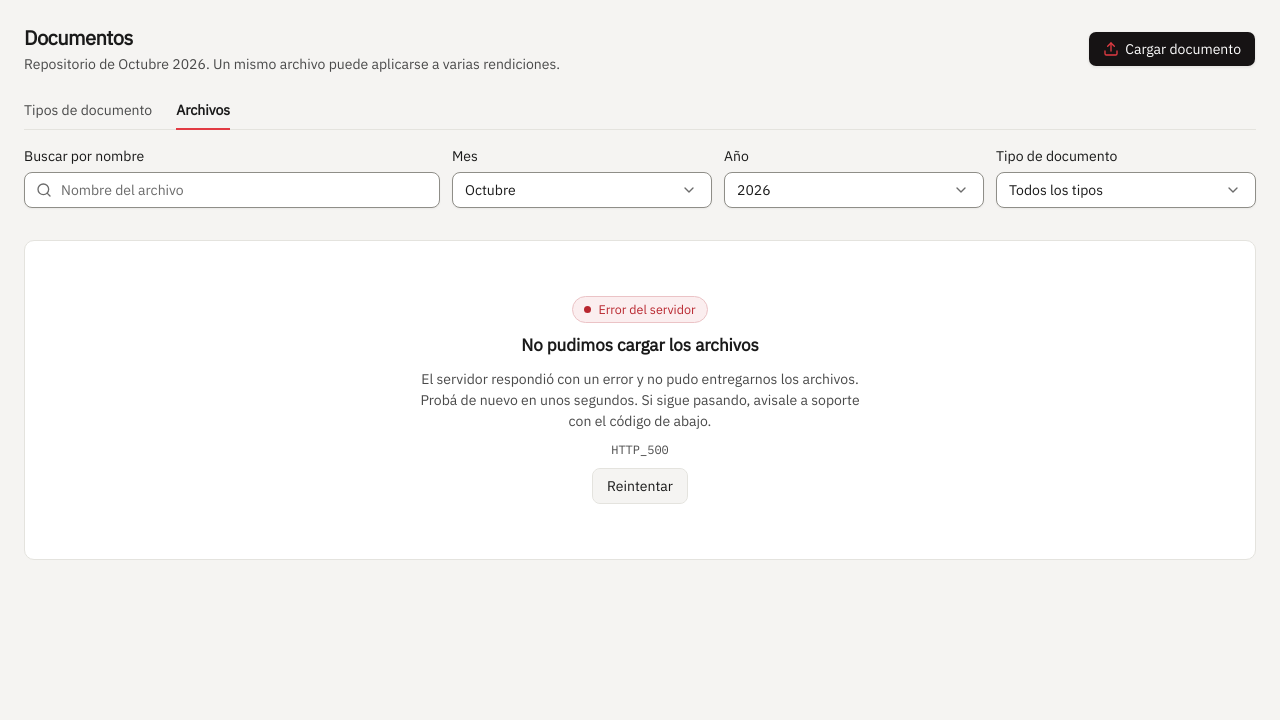
ArchivosPage: repositorio › un error de la API no se confunde con un repositorio vacío y se puede reintentar
Expected: the heading "No pudimos cargar los archivos" is shown, x1=521 y1=333 x2=759 y2=359
Click the button "Reintentar": [640, 486] box x1=592 y1=468 x2=688 y2=504
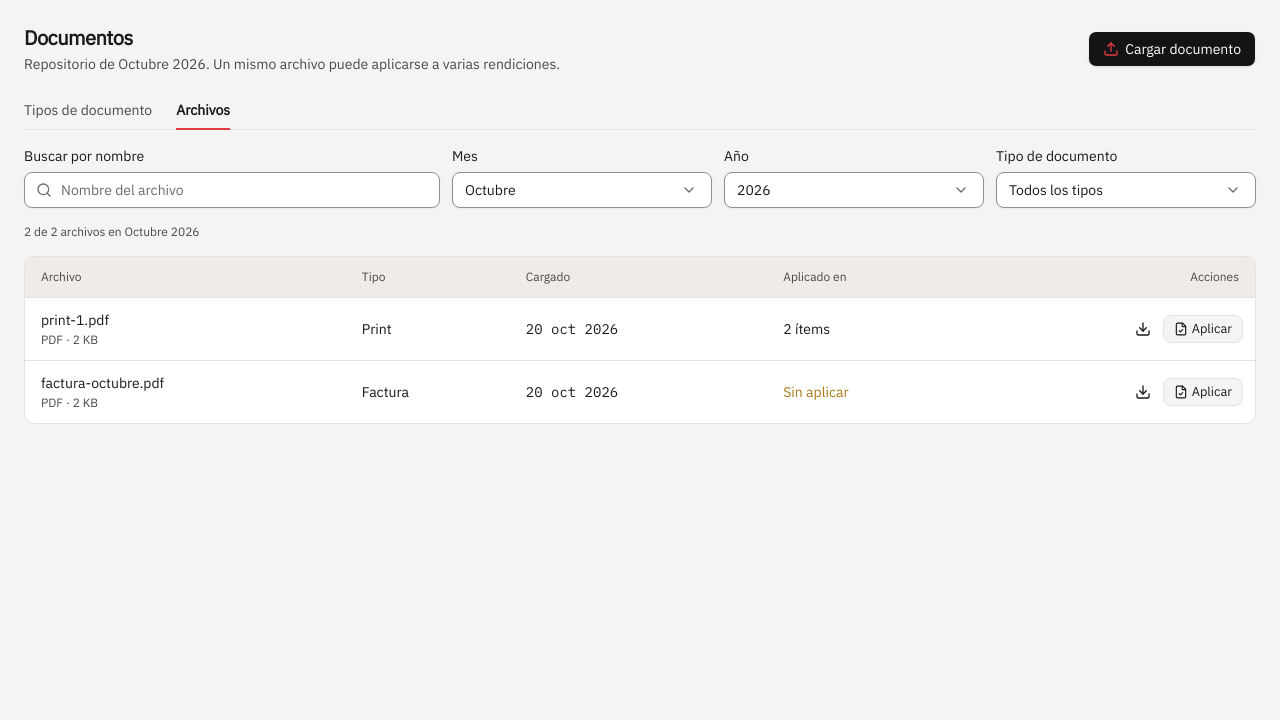
Now the button "print-1.pdf" is shown, box x1=41 y1=310 x2=109 y2=330
